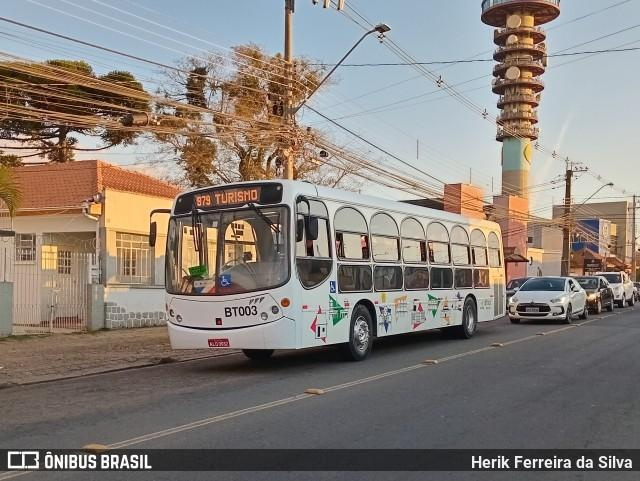TURISMO: (212, 186, 260, 207)
